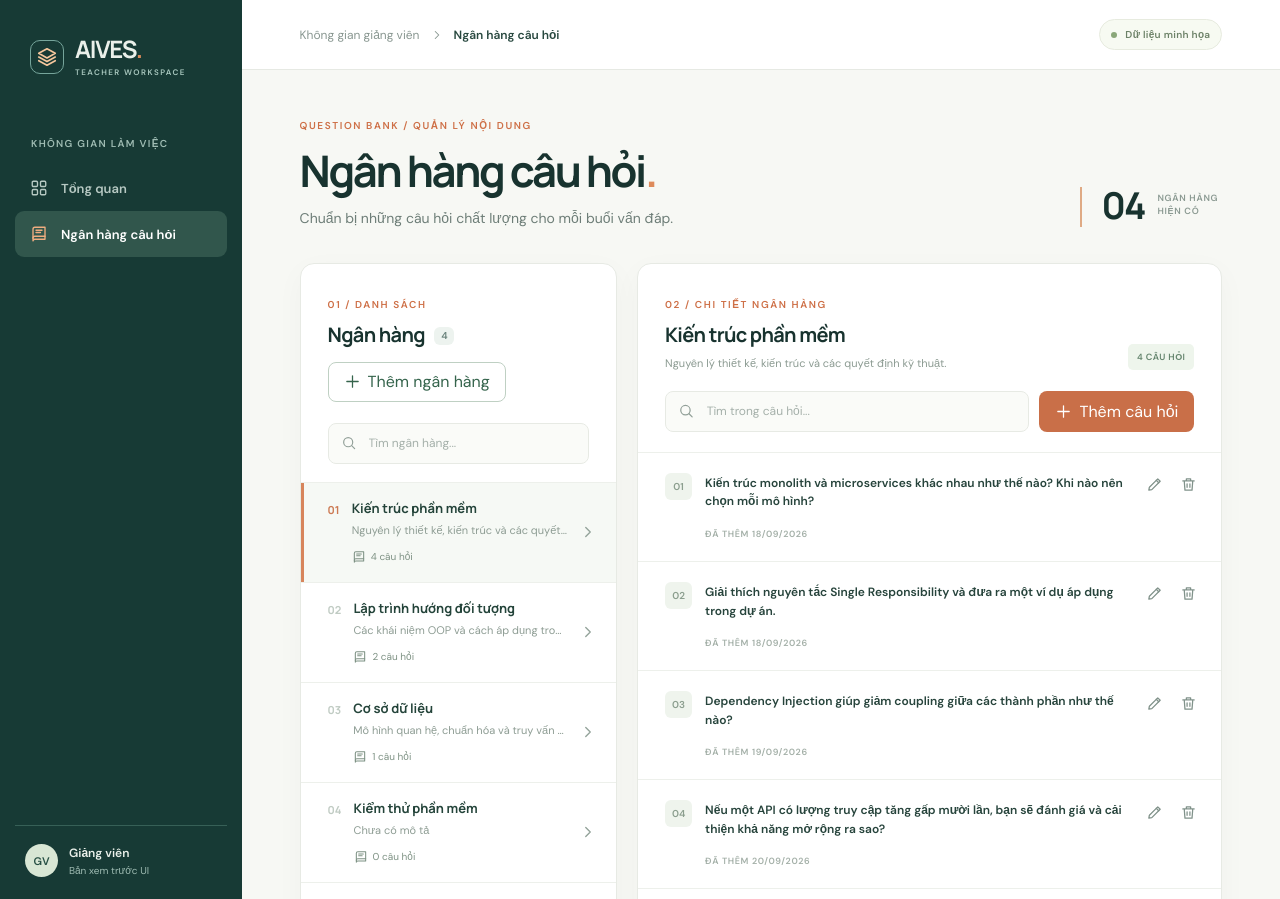
Test: QuestionBankWorkspace › renders server validation details without discarding the entered bank data
Click the button "Thêm ngân hàng".
click(417, 382)  # box [328,362,506,402]
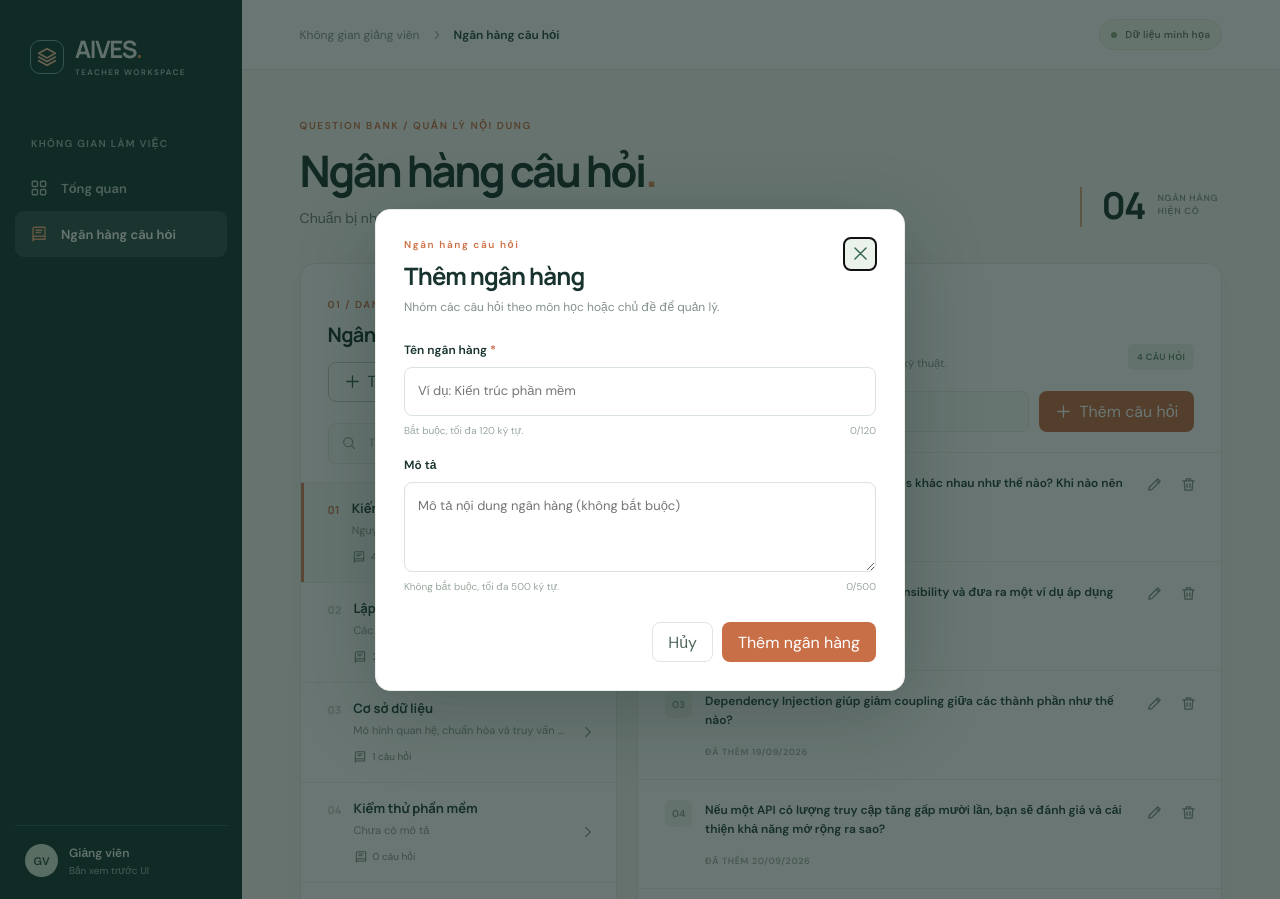
Type "Ngân hàng mới" into the field labelled "Tên ngân hàng *".
click(640, 391); type("Ngân hàng mới")  # box [404,367,876,416]
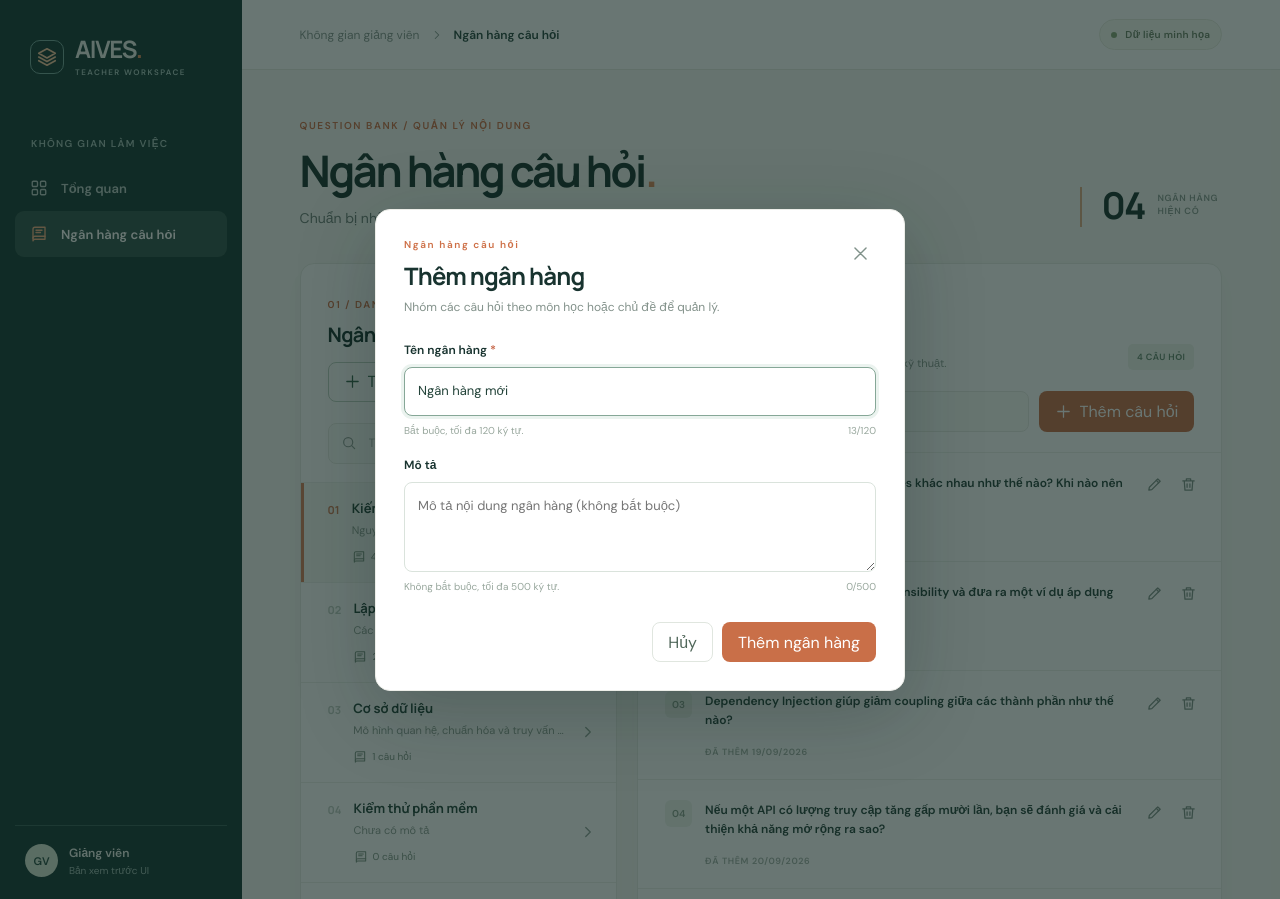
Click the button "Thêm ngân hàng".
click(799, 642)  # box [722,622,876,662]
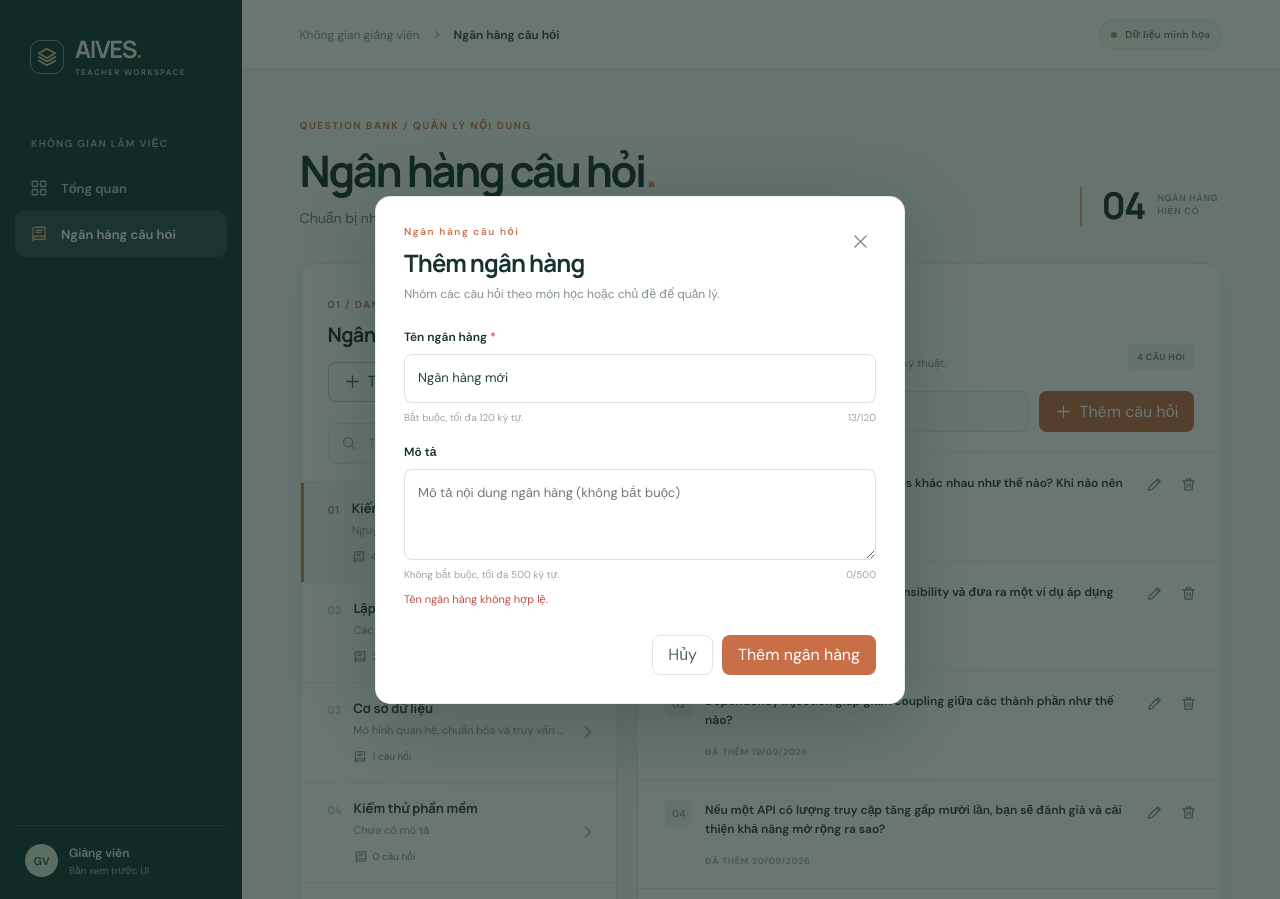
Check: the message reads "Tên ngân hàng không hợp lệ.", box [404,592,548,606]
